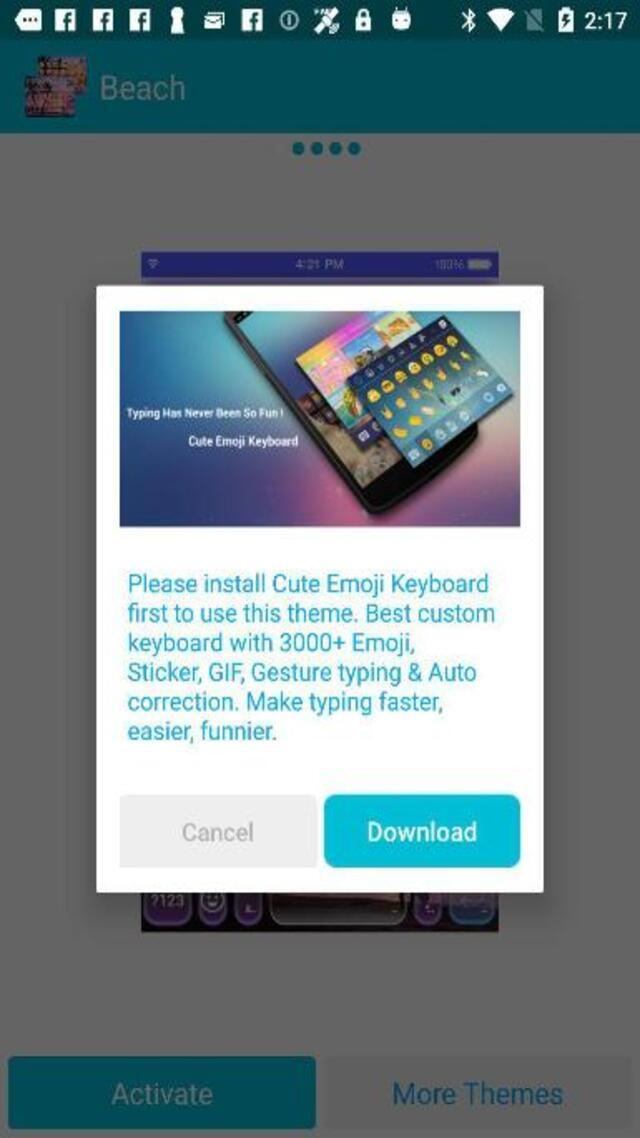Image: (118, 310, 520, 526), (26, 57, 88, 117)
Text: (124, 599, 498, 629), (124, 658, 480, 687), (124, 687, 450, 718), (123, 573, 496, 598), (125, 629, 418, 659), (385, 1076, 566, 1112), (125, 717, 283, 746), (362, 818, 481, 849), (108, 1078, 216, 1111), (102, 74, 184, 100), (178, 819, 256, 846)
TextButton: (7, 1054, 316, 1130), (323, 1056, 631, 1128), (120, 794, 316, 867), (324, 794, 520, 867)
